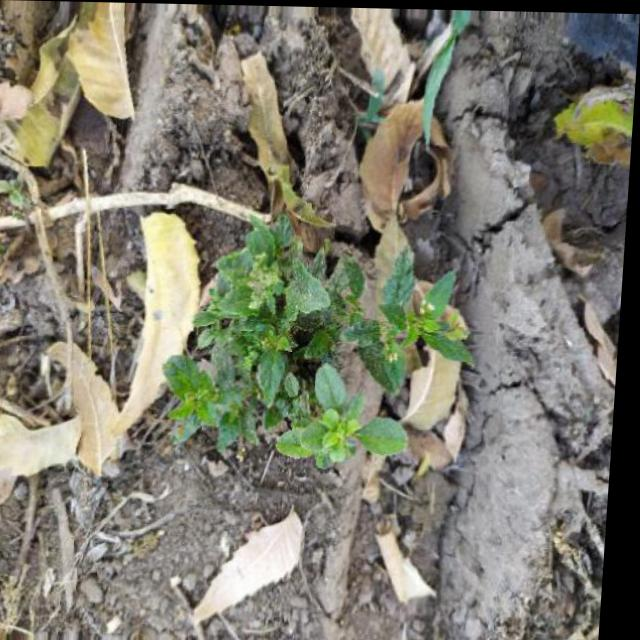weed: (160, 191, 479, 482)
